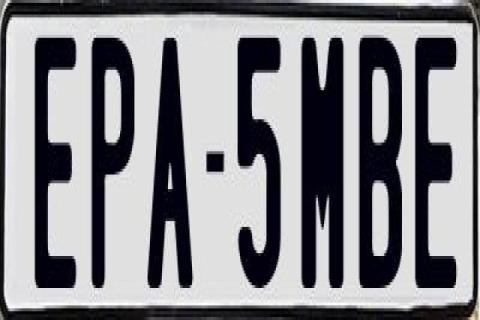0: (238, 29, 284, 285)
A: (146, 32, 196, 294)
B: (358, 35, 406, 288)
E: (31, 35, 78, 303), (411, 29, 458, 279)
M: (300, 32, 344, 285)
P: (89, 38, 137, 288)
